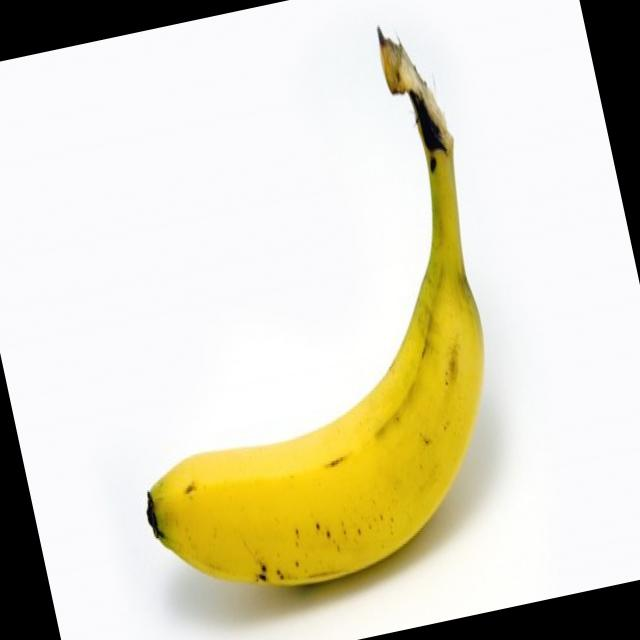banana: (96, 234, 547, 640)
